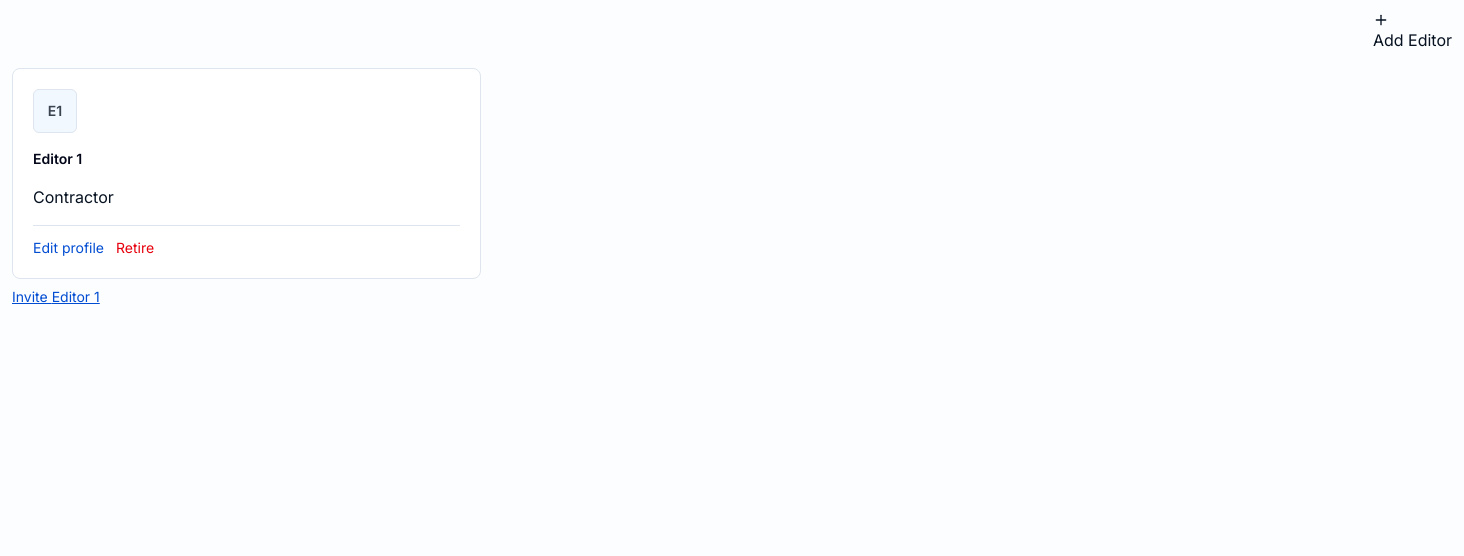
Test: controlled team invitations › requests a one-recipient roster invitation and keeps the review in Inbox
Click the button "Invite Editor 1".
click(56, 297)  # box [12,287,100,307]
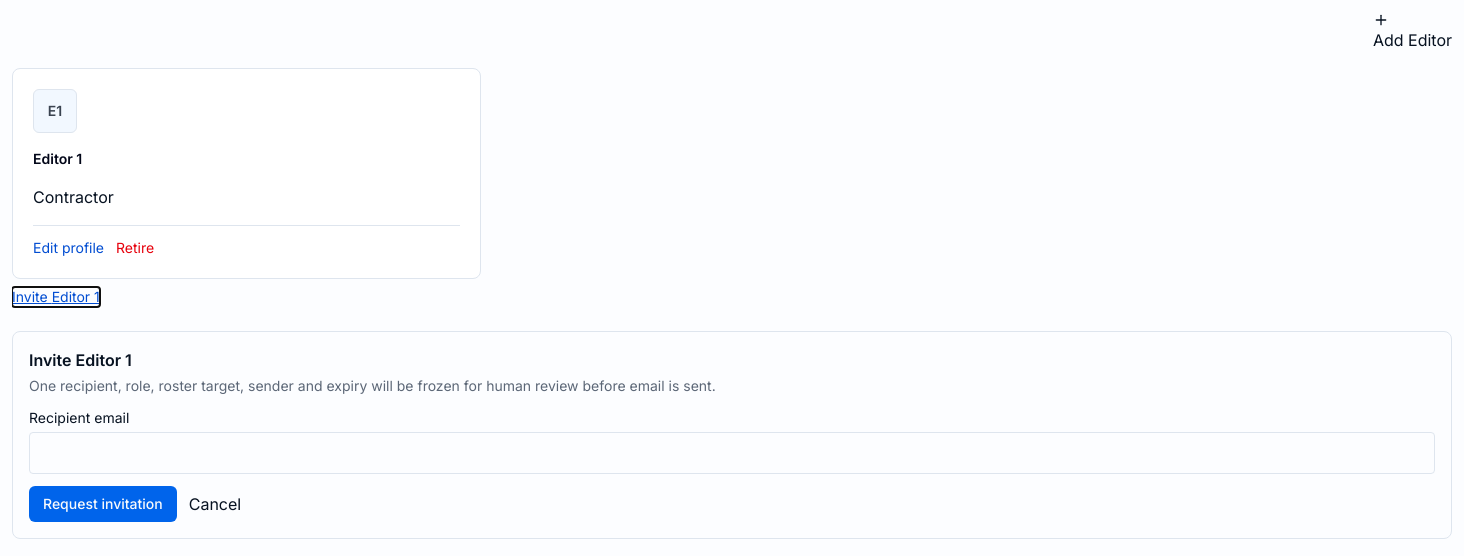
Type "new@example.com" into the field labelled "Recipient email".
click(732, 453); type("new@example.com")  # box [29,432,1435,474]
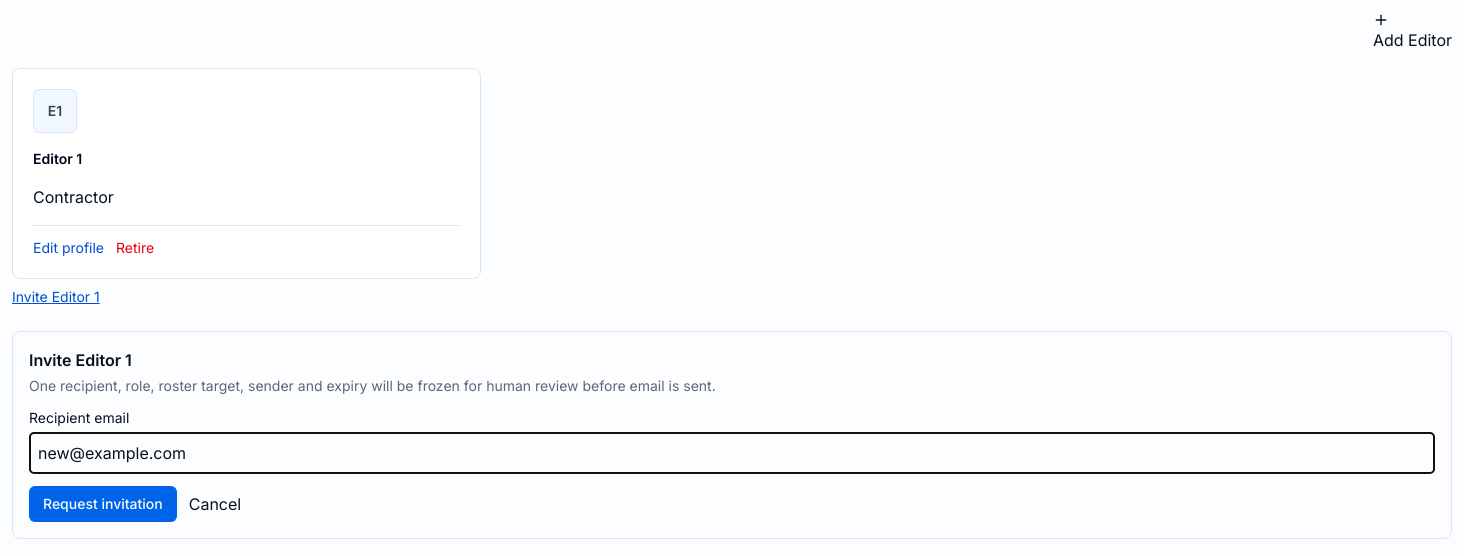
Click the button "Request invitation".
click(103, 504)  # box [29,486,177,522]
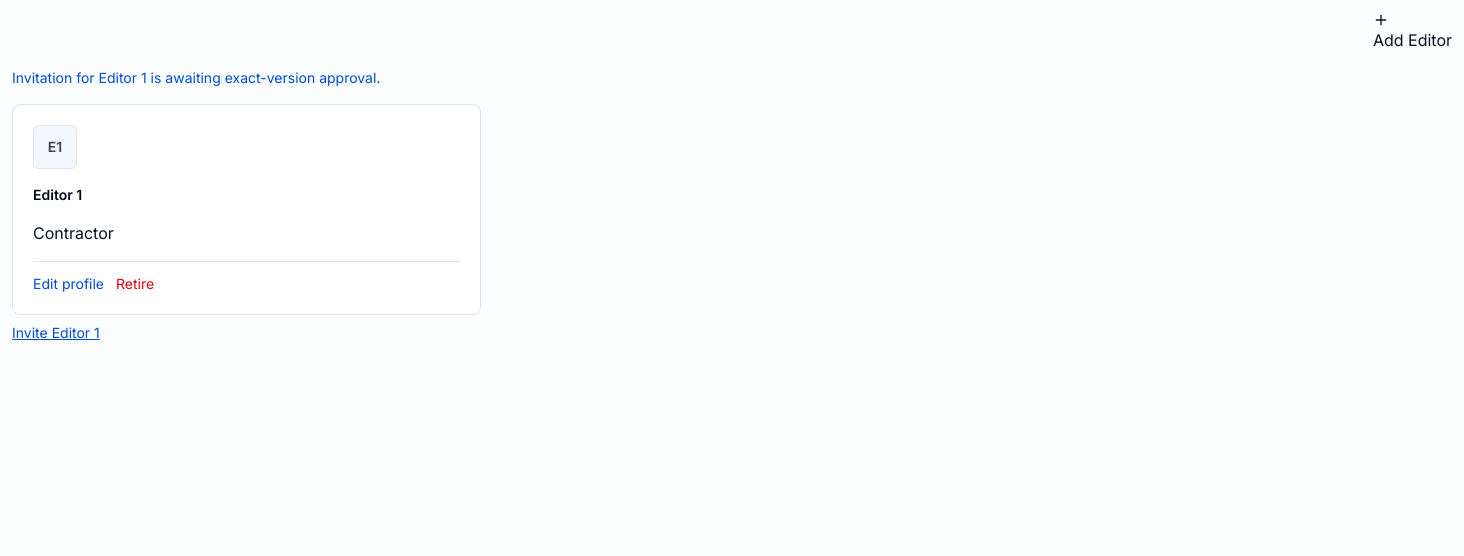
Result: the text "Invitation for Editor 1 is awaiting exact-version approval." is shown at [12,69,380,86]
